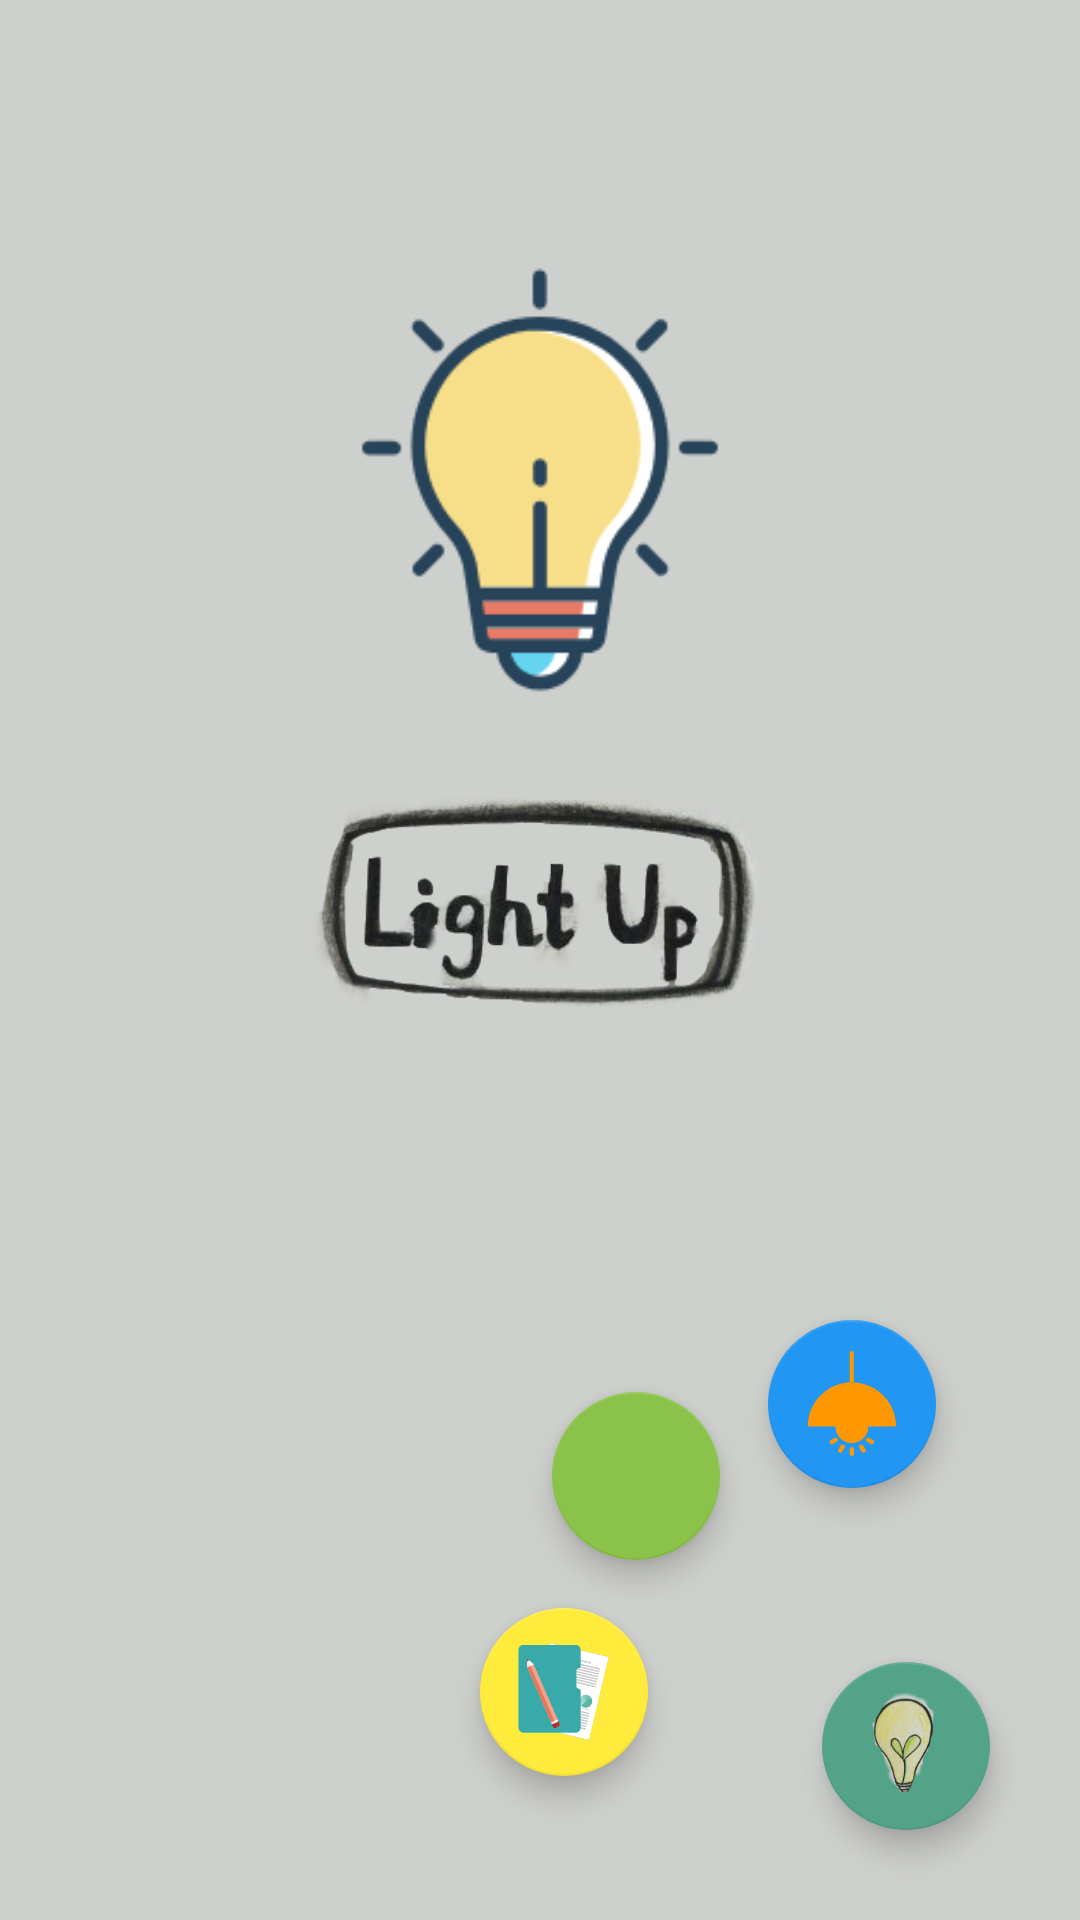

Locate icon controls on the screen. Image size 1080w x 1920h, boxes as [x1, y1, x2, y2].
dengpu: [768, 1320, 936, 1488]
record: [480, 1608, 648, 1776]
